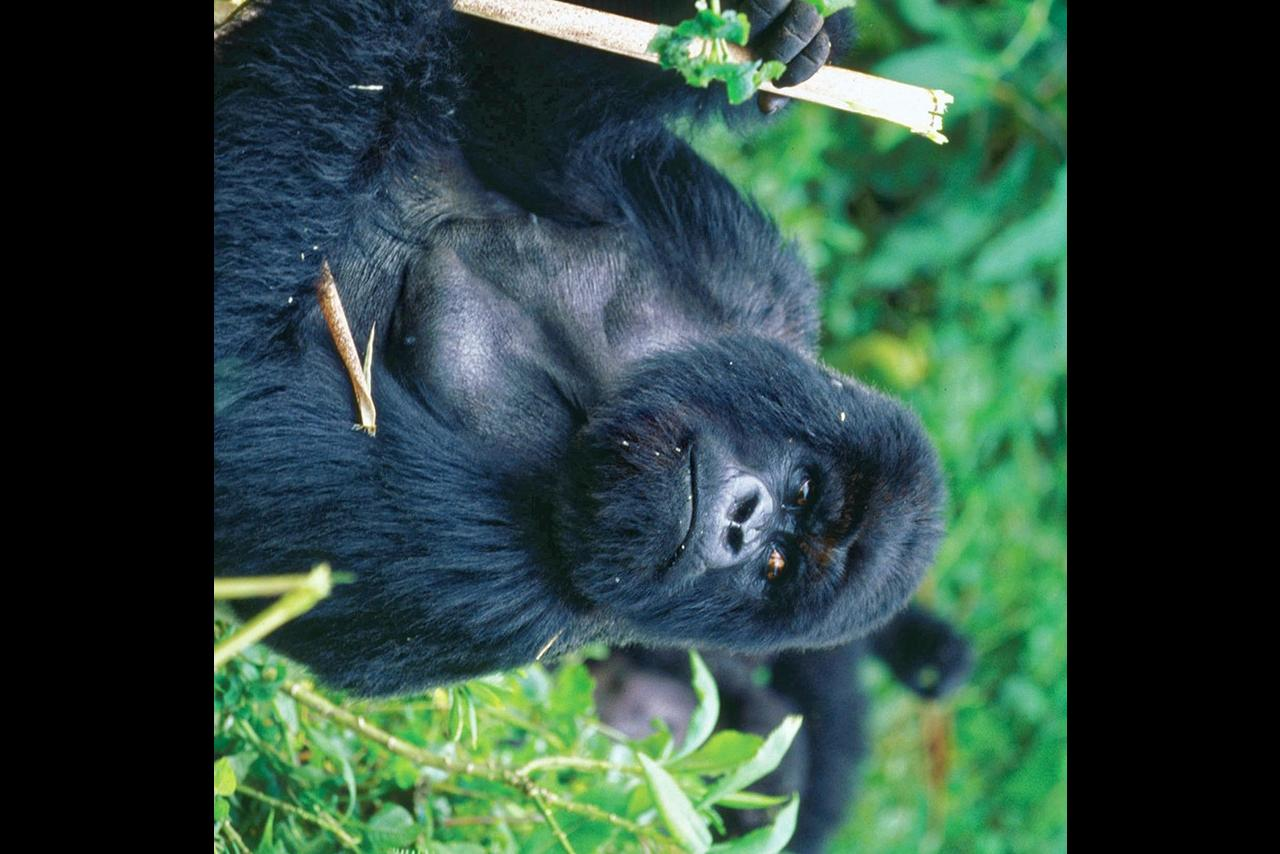goriile_montagne: (213, 0, 1031, 716)
